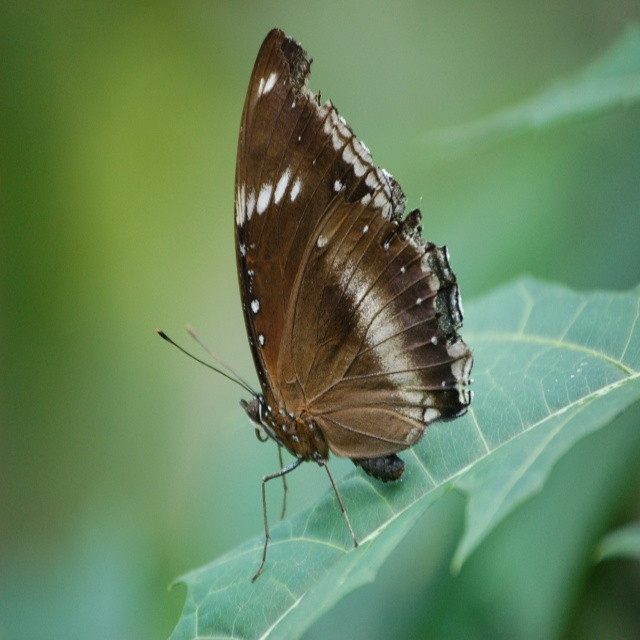Butterfly: (151, 19, 476, 604)
